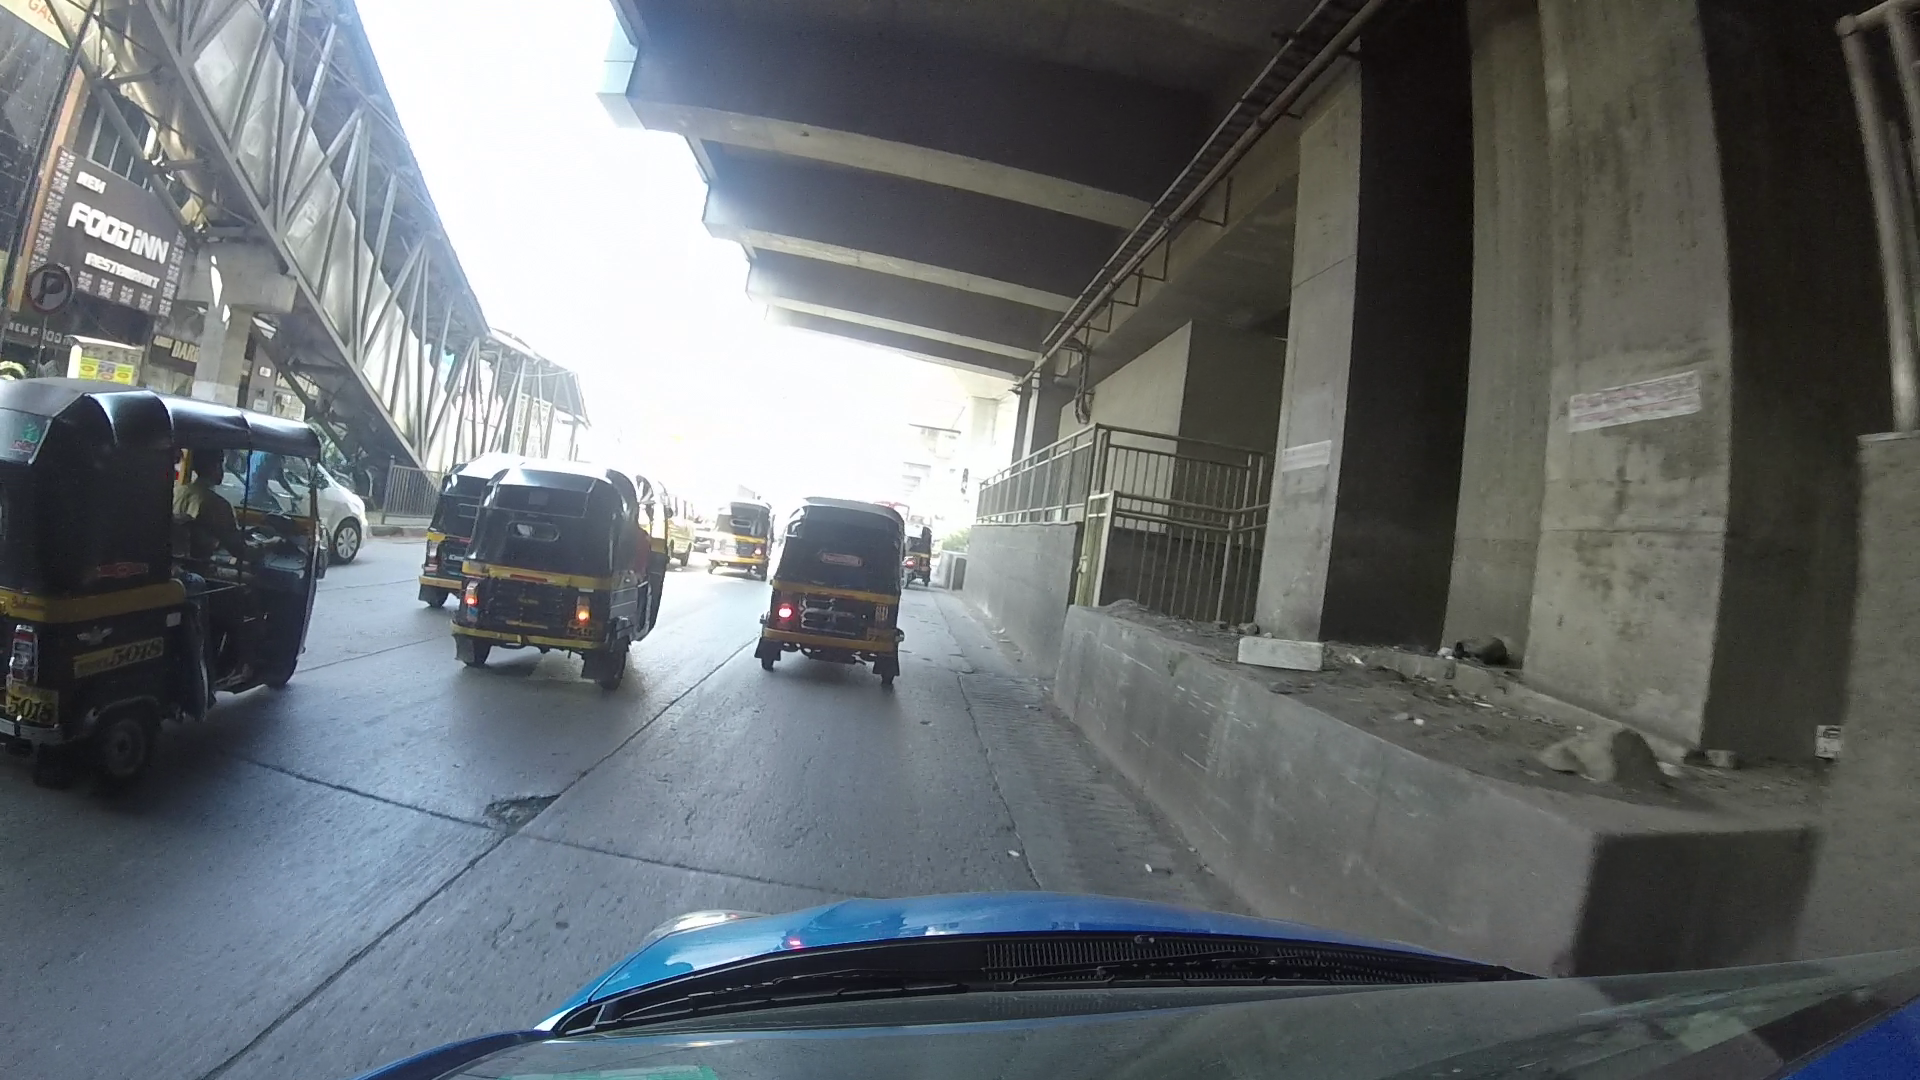rickshaw: (11, 363, 351, 781), (448, 458, 676, 673), (745, 491, 934, 692), (398, 429, 506, 604)
